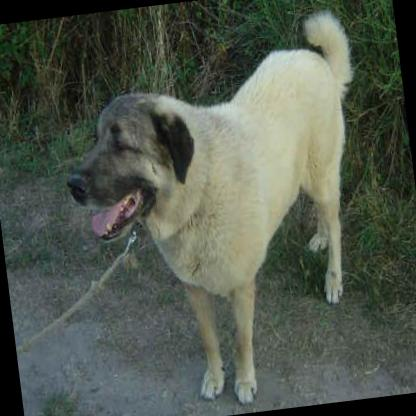Leonberg: (49, 3, 393, 416)
